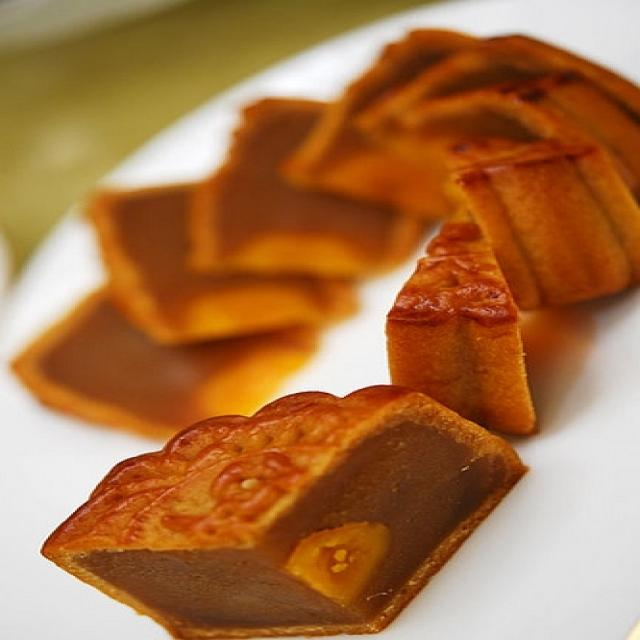蛋糕甜品: (11, 28, 628, 621)
